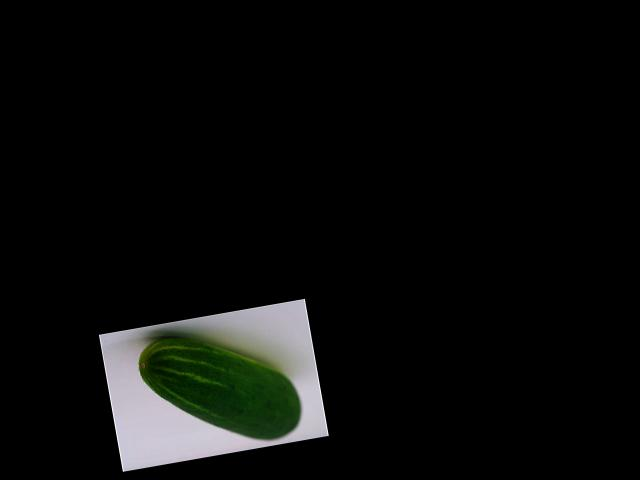cucumber: (135, 316, 305, 459)
